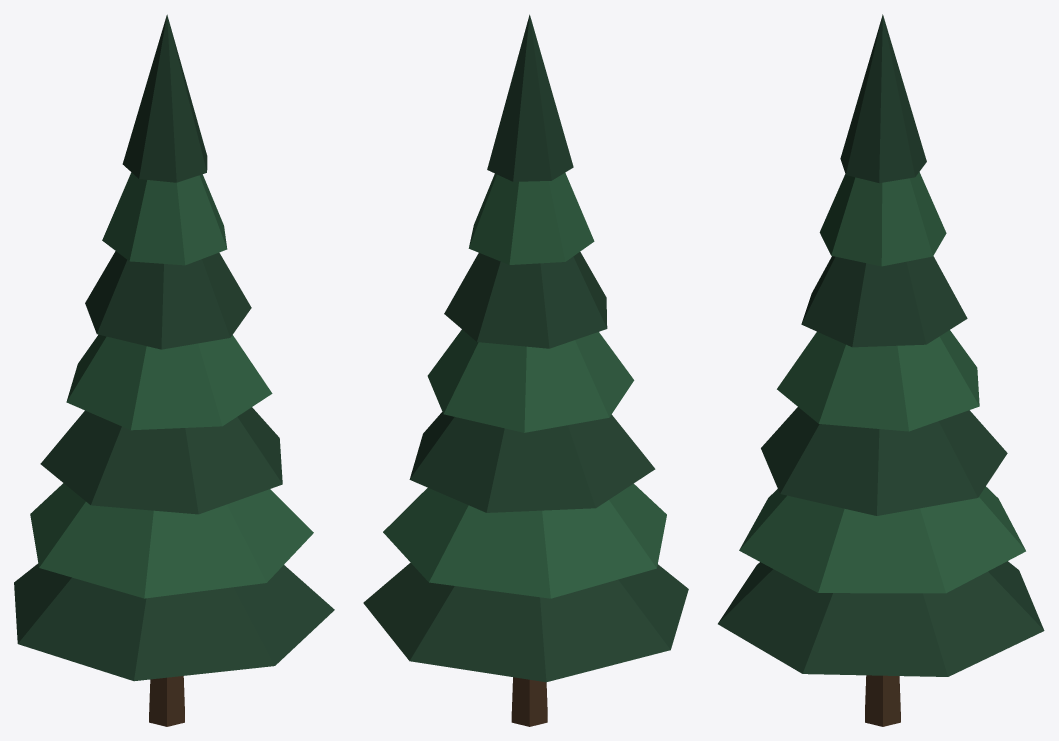
File: spruce-a.glb
3 views of the same model, side by side, from view 1: azimuth 30°, elevation 25°; view 2: azimuth 150°, elevation 25°; view 3: azimuth 270°, elevation 25° (orthographic).
Parts seen in each view (by area): view 1: tree; view 2: tree; view 3: tree.
Boxes of the visible parts, box(x1,y1,x2,y2) form: tree: box(14, 14, 334, 726); tree: box(363, 14, 688, 726); tree: box(718, 14, 1044, 726).
Size of the model in its own units: 4.03 by 9.72 by 4.09.
